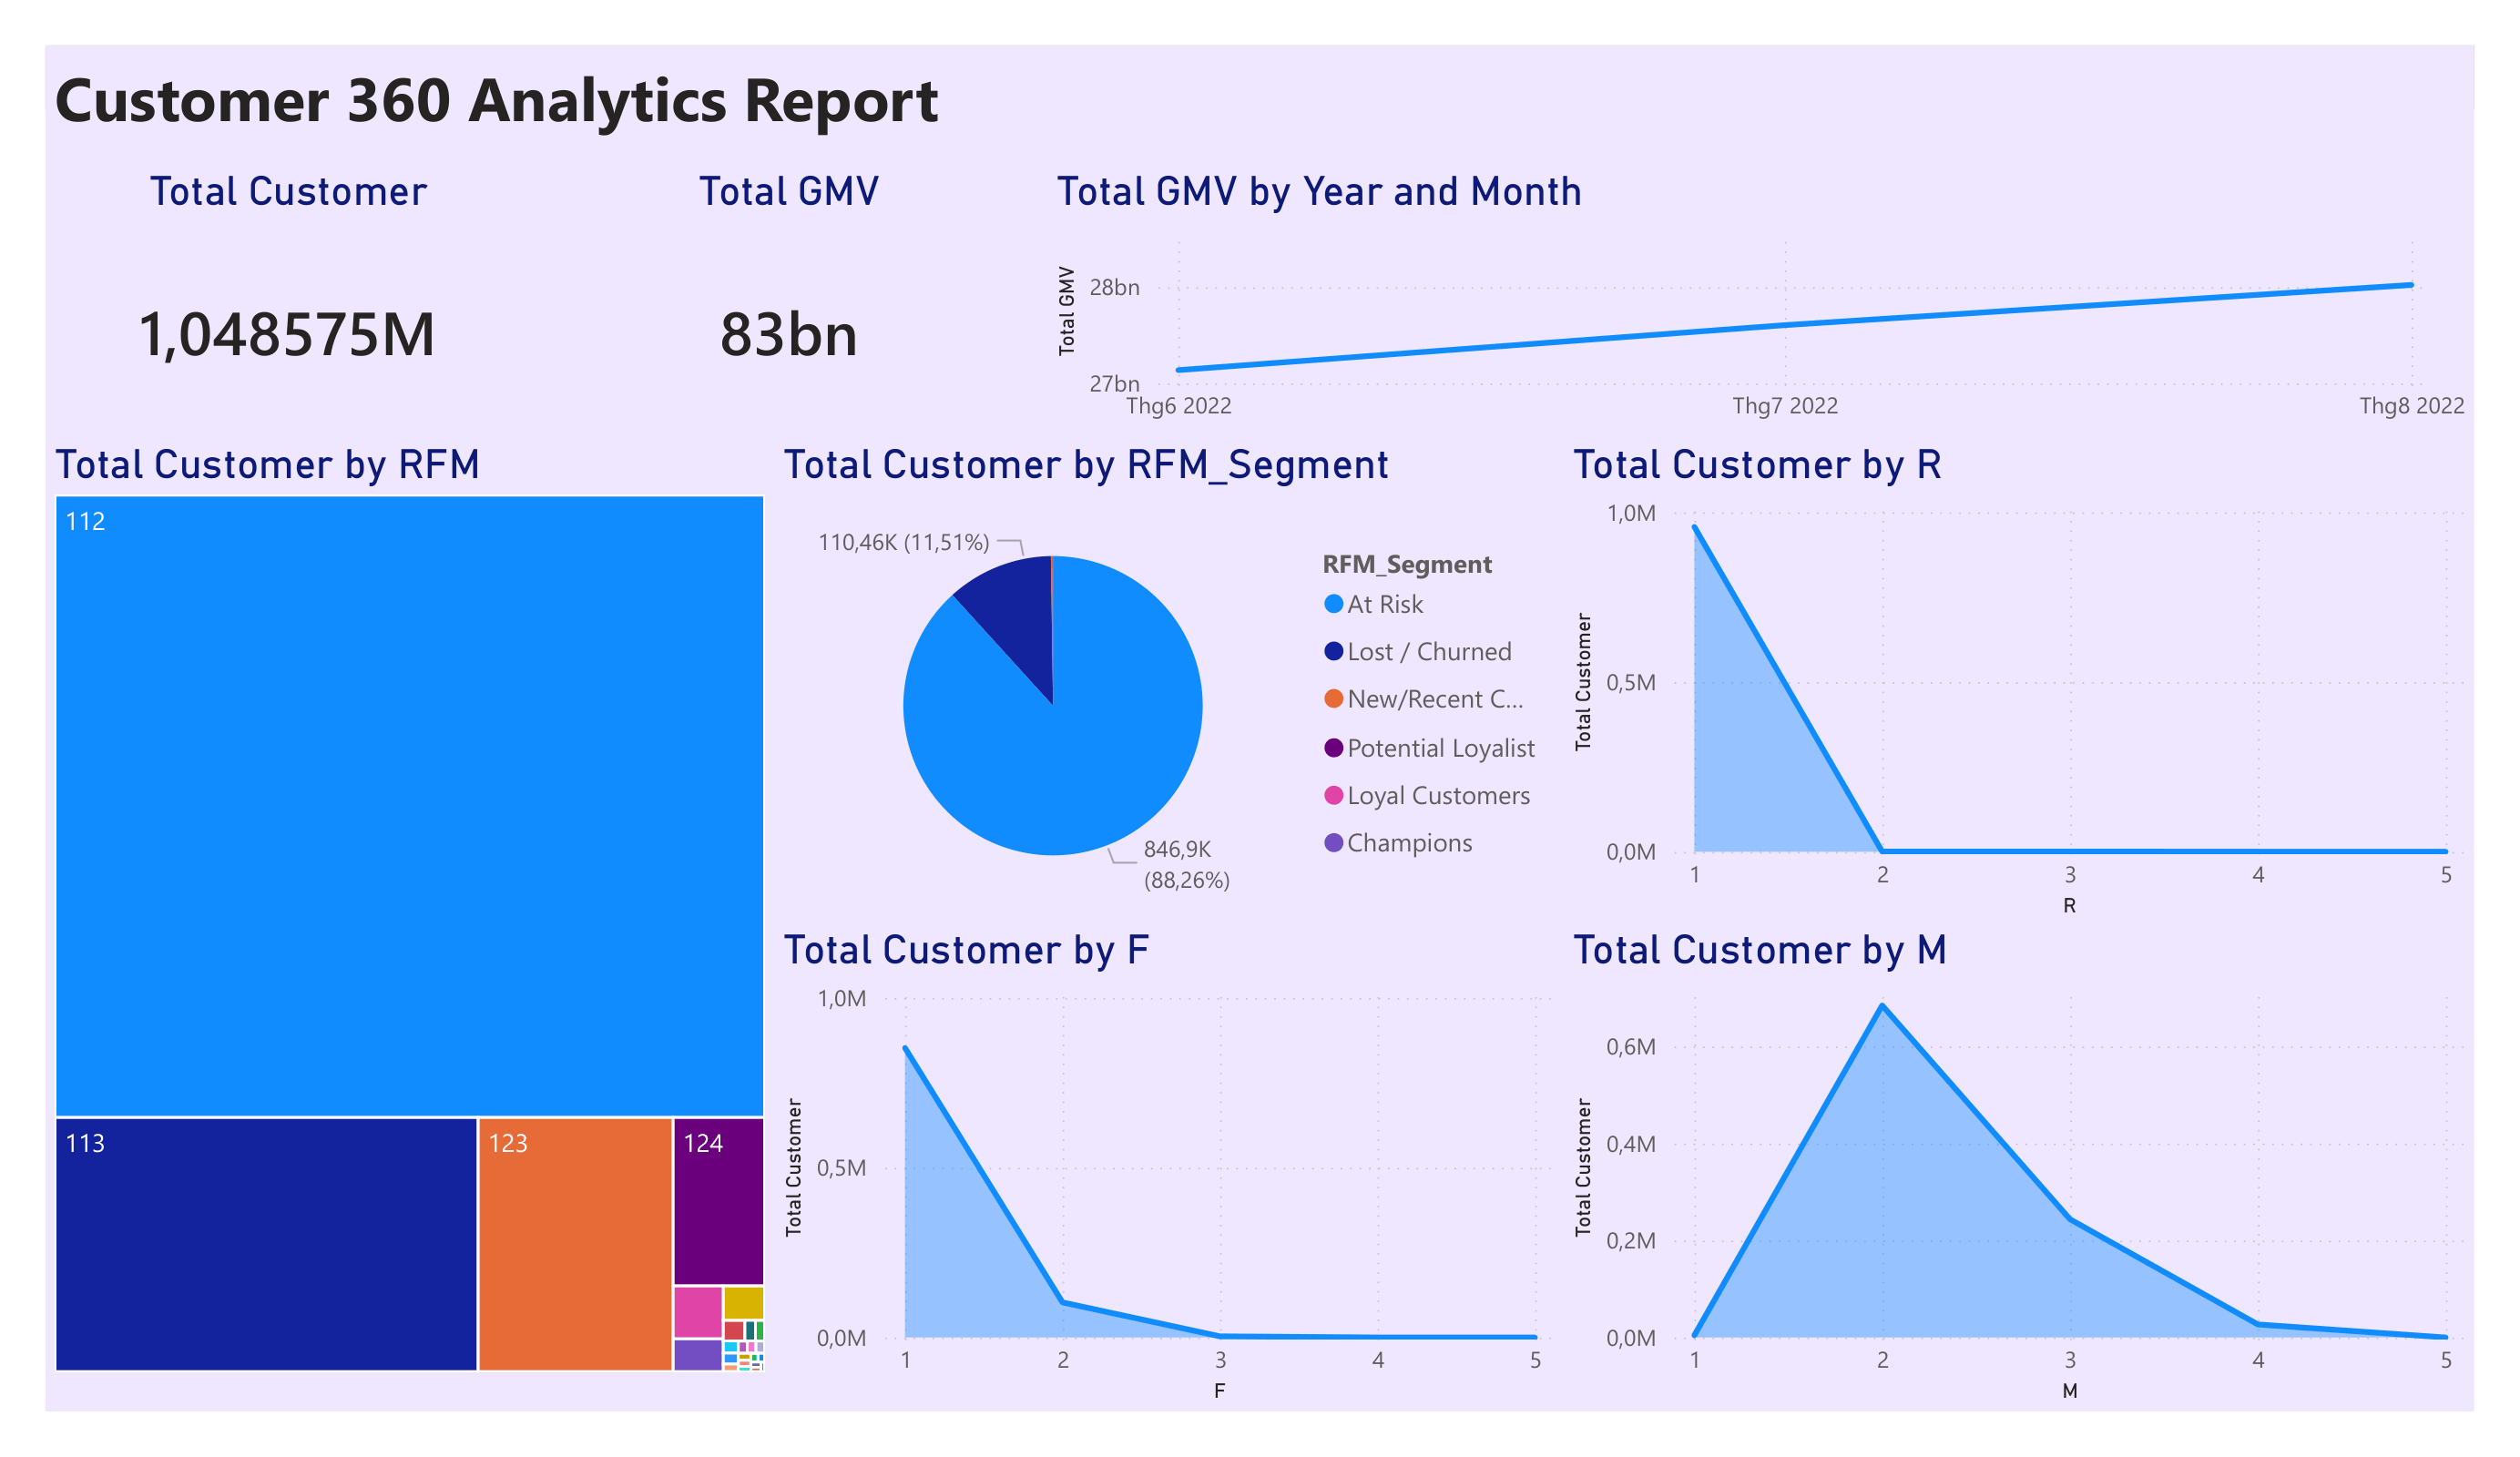

Layout of this report page (visuals, bound fields, positions):
{"tool":"powerbi","page":{"name":"Page 3","canvas":[1280,720],"ordinal":0},"visuals":[{"type":"textbox","box":[0,0,592,64],"z":0},{"type":"cardVisual","title":"Total Customer","fields":{"Data":["CountNonNull(customer 360 customer_transaction.CustomerID)"]},"box":[0,64,256,144],"z":1000},{"type":"cardVisual","title":"Total GMV","fields":{"Data":["Sum(customer 360 customer_transaction.GMV)"]},"box":[240,64,304,144],"z":2000},{"type":"lineChart","fields":{"Y":["Sum(customer 360 customer_transaction.GMV)"],"Category":["customer 360 customer_transaction.Purchase_Date.Variation.Date Hierarchy.Year","customer 360 customer_transaction.Purchase_Date.Variation.Date Hierarchy.Month"]},"box":[528,64,752,144],"z":3000},{"type":"treemap","fields":{"Values":["CountNonNull(customer 360 v_rfm_customer_360.CustomerID)"],"Group":["customer 360 v_rfm_customer_360.RFM_Cell"]},"box":[0,208,384,496],"z":4000},{"type":"areaChart","fields":{"Y":["CountNonNull(customer 360 v_rfm_customer_360.CustomerID)"],"Category":["customer 360 v_rfm_customer_360.F"]},"box":[384,464,416,256],"z":5000},{"type":"areaChart","fields":{"Y":["CountNonNull(customer 360 v_rfm_customer_360.CustomerID)"],"Category":["customer 360 v_rfm_customer_360.R"]},"box":[800,208,480,256],"z":6000},{"type":"areaChart","fields":{"Y":["CountNonNull(customer 360 v_rfm_customer_360.CustomerID)"],"Category":["customer 360 v_rfm_customer_360.M"]},"box":[800,464,480,256],"z":7000},{"type":"pieChart","fields":{"Category":["customer 360 v_rfm_customer_360.RFM_Segment"],"Y":["CountNonNull(customer 360 v_rfm_customer_360.CustomerID)"]},"box":[384,208,416,256],"z":8000}]}

Visuals, with their boxes in screenshot pixels (x1, y1, x2, y2):
textbox: (left=39, top=72, right=1148, bottom=192)
"Total Customer" cardVisual: (left=39, top=192, right=519, bottom=462)
"Total GMV" cardVisual: (left=489, top=192, right=1058, bottom=462)
lineChart - Sum(customer 360 customer_transaction.GMV) x customer 360 customer_transaction.Purchase_Date.Variation.Date Hierarchy.Year: (left=1028, top=192, right=2436, bottom=462)
treemap - CountNonNull(customer 360 v_rfm_customer_360.CustomerID) x customer 360 v_rfm_customer_360.RFM_Cell: (left=39, top=462, right=759, bottom=1391)
areaChart - CountNonNull(customer 360 v_rfm_customer_360.CustomerID) x customer 360 v_rfm_customer_360.F: (left=759, top=941, right=1537, bottom=1421)
areaChart - CountNonNull(customer 360 v_rfm_customer_360.CustomerID) x customer 360 v_rfm_customer_360.R: (left=1537, top=462, right=2436, bottom=941)
areaChart - CountNonNull(customer 360 v_rfm_customer_360.CustomerID) x customer 360 v_rfm_customer_360.M: (left=1537, top=941, right=2436, bottom=1421)
pieChart - customer 360 v_rfm_customer_360.RFM_Segment x CountNonNull(customer 360 v_rfm_customer_360.CustomerID): (left=759, top=462, right=1537, bottom=941)
